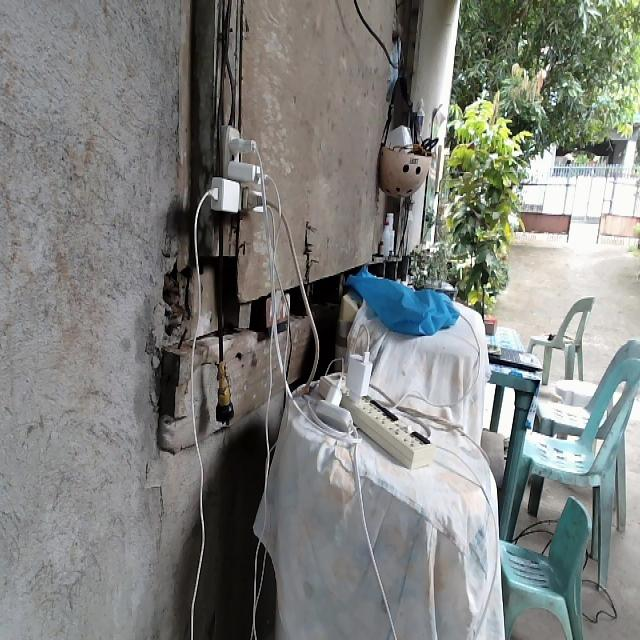-: (209, 122, 268, 214)
